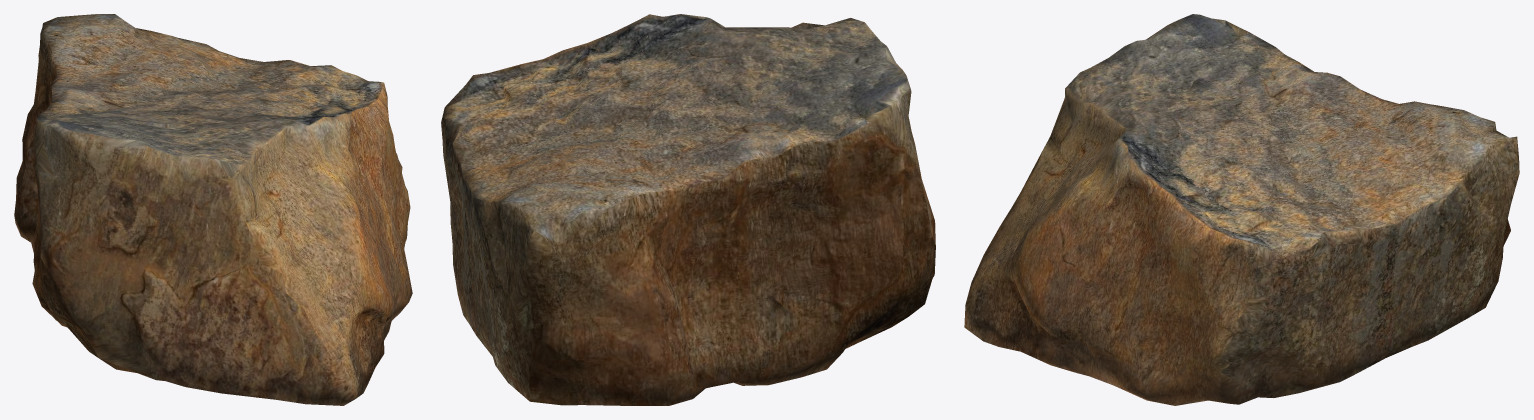
Rendered from namaqualand_boulder_03.glb.
The picture shows the model from 3 angles, left to right: view 1: azimuth 30°, elevation 25°; view 2: azimuth 150°, elevation 25°; view 3: azimuth 270°, elevation 25°; orthographic projection. The views are drawn at different scales.
Parts seen in each view (by area): view 1: boulder_03_LOD0; view 2: boulder_03_LOD0; view 3: boulder_03_LOD0.
Part boxes in pixels (x1,y1,x2,y2): boulder_03_LOD0: (14,14,412,405); boulder_03_LOD0: (441,14,935,405); boulder_03_LOD0: (964,14,1519,405).
Bounding box in the file's own units: 2.41 × 1.47 × 3.06.
1 material, 1 textured.
